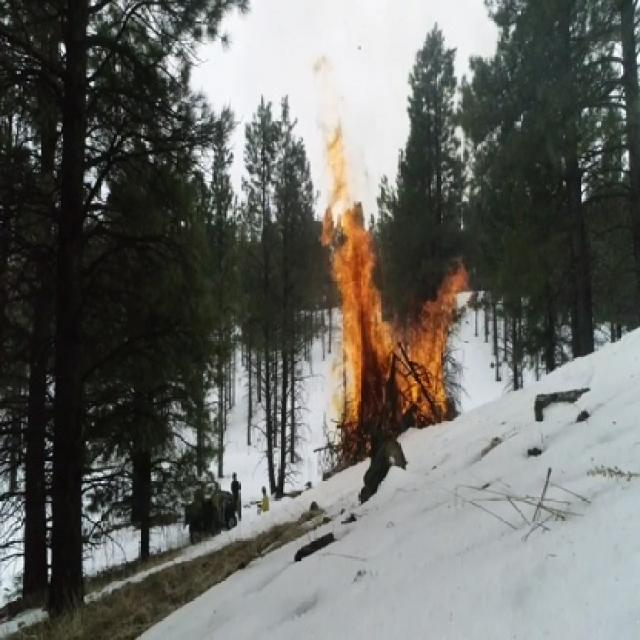Fire: (308, 52, 470, 458)
